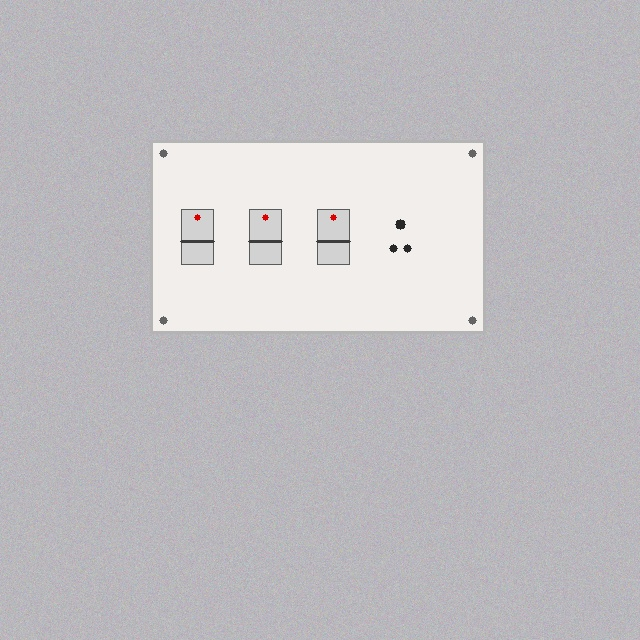switchboard: (151, 141, 484, 332)
